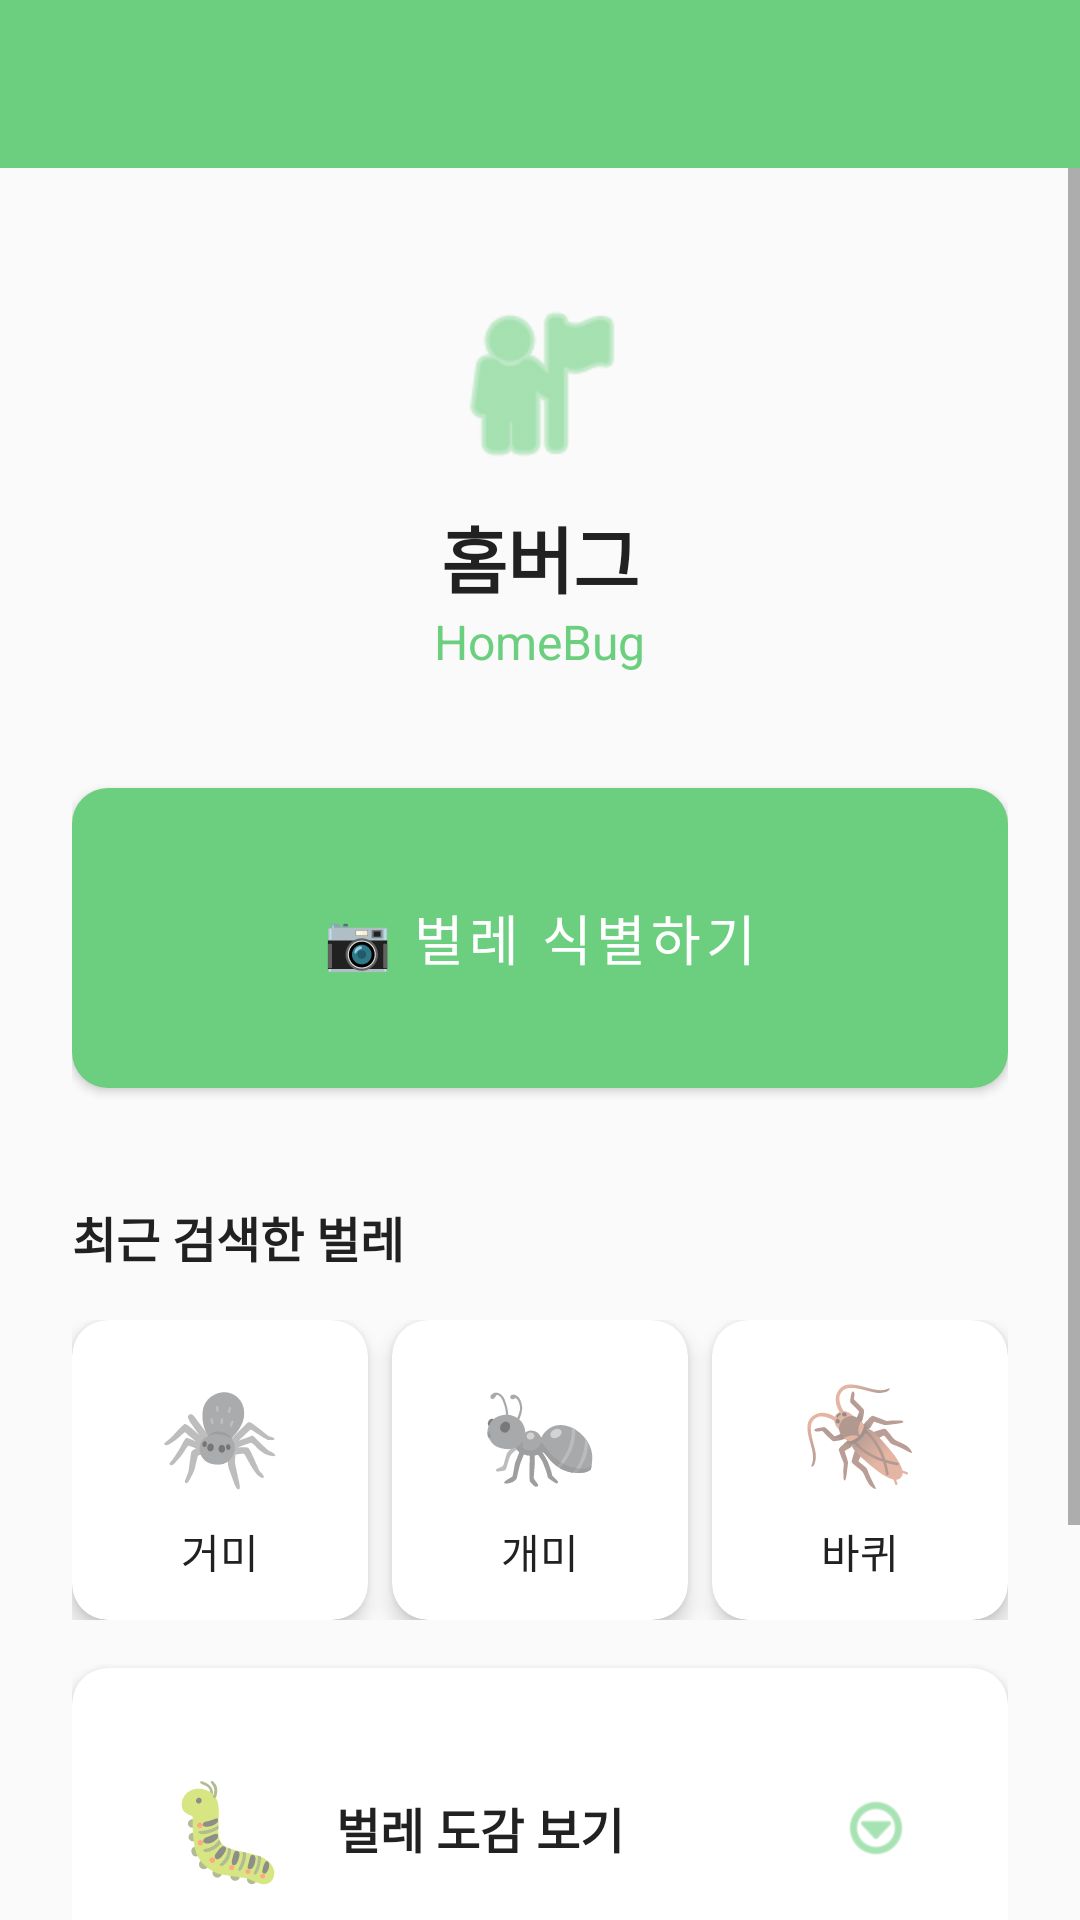

Icon bounding boxes for this 1080×1920 phone screenshot, format (x1, y1, x2, y2):
more: (849, 1802, 903, 1855)
myplaces: (470, 313, 614, 455)
